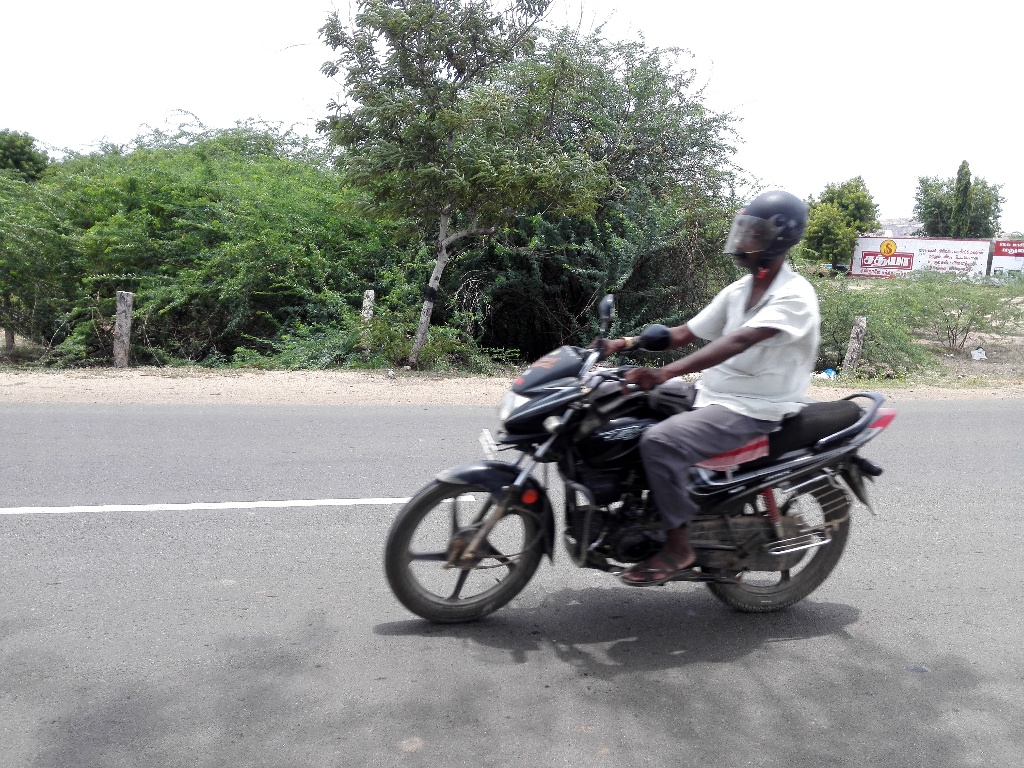biker: (365, 146, 912, 656)
helmet: (715, 176, 822, 290)
